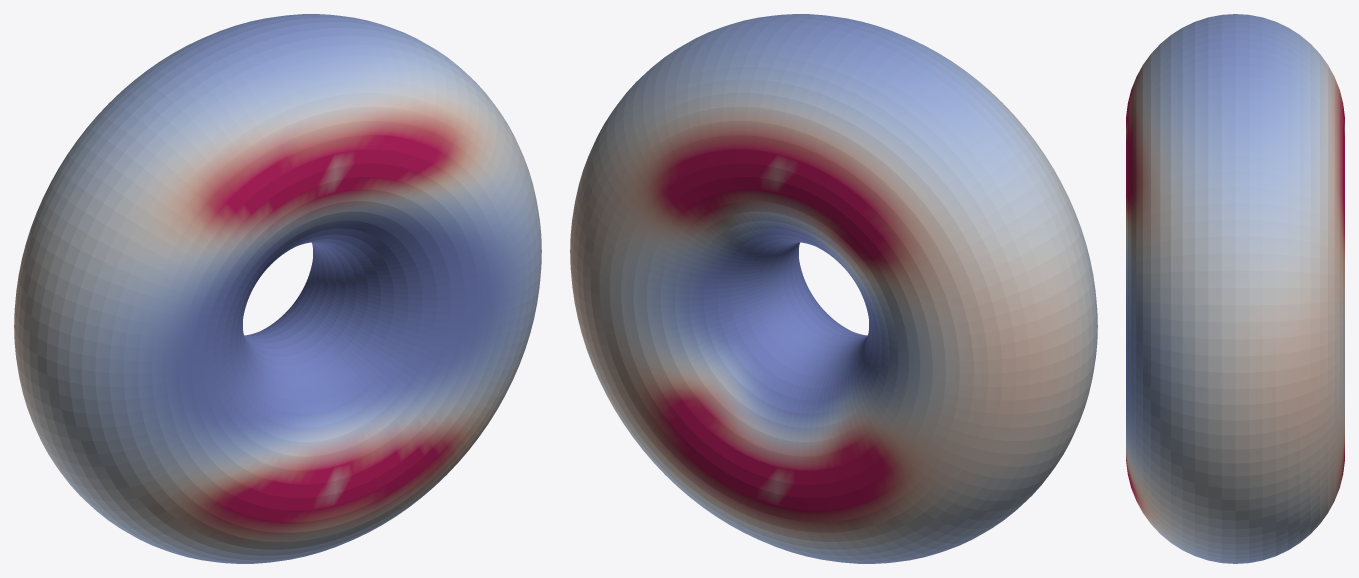
3 views of the same model, side by side, from view 1: azimuth 30°, elevation 25°; view 2: azimuth 150°, elevation 25°; view 3: azimuth 270°, elevation 25° (orthographic). The views are drawn at different scales.
Parts seen in each view (by area): view 1: world; view 2: world; view 3: world.
Boxes of the visible parts, box(x1,y1,x2,y2) form: world: box(14, 14, 541, 563); world: box(570, 14, 1097, 563); world: box(1126, 14, 1344, 563).
Size of the model in its own units: 17.73 by 17.73 by 7.05.
